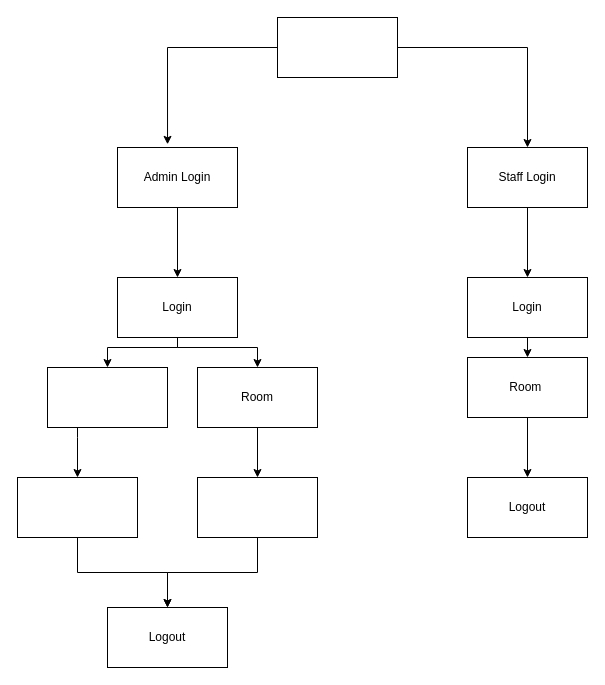
Some shapes in this 605 by 685 pixel diagram are drawn without their labels. Each missing label, with the centre of its shape:
"Add Staff" belongs at point (77, 507).
"Book room" belongs at point (257, 507).
"Room Reservation" belongs at point (337, 47).
"Staff List" belongs at point (107, 397).
